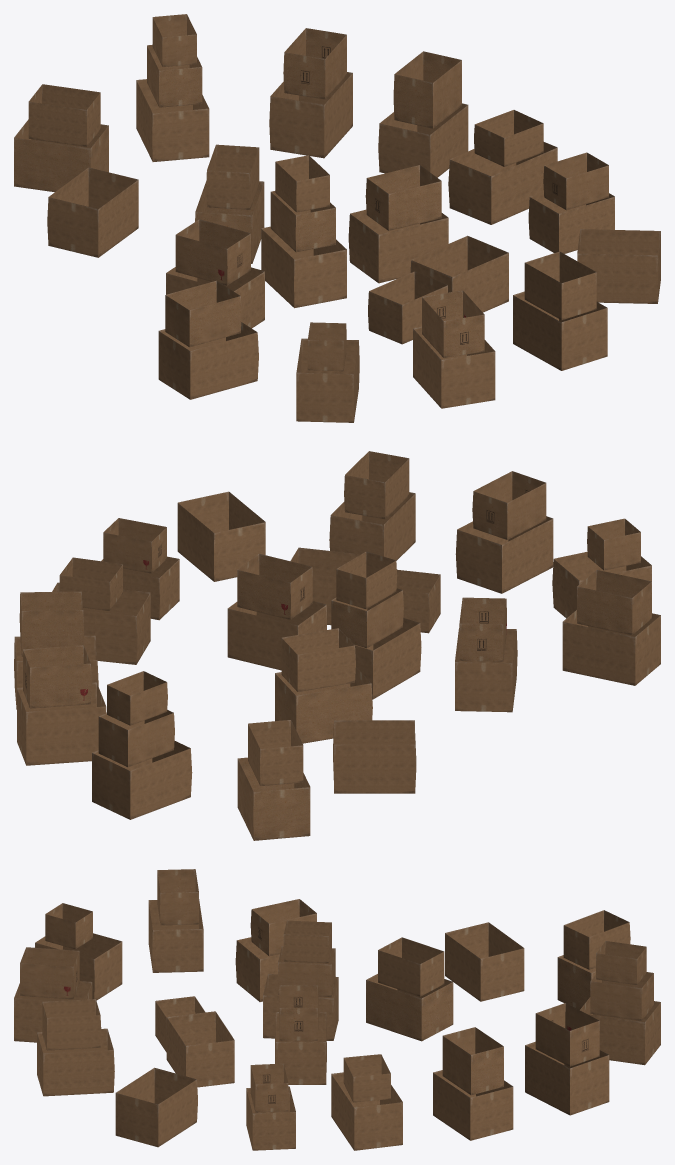
Rendered from map_walls_alleslos.fbx.
3 views of the same model, one above another, from view 1: azimuth 30°, elevation 25°; view 2: azimuth 150°, elevation 25°; view 3: azimuth 270°, elevation 25° (orthographic). The views are drawn at different scales.
Parts seen in each view (by area): view 1: wall1_30, wall4_5, wall3_17, wall3_12, wall1_14, wall1_32, wall4_24, wall4, wall4_8, wall4_26, wall3_19, wall2_3 (+68 smaller); view 2: wall4_19, wall1_12, wall3_30, wall2_20, wall4_14, wall2_24, wall4_17, wall6_3, wall2, wall1_13, wall1_26, wall4_11 (+57 smaller); view 3: wall3_3, wall3_20, wall4_30, wall4_12, wall3_8, wall3_22, wall3_24, wall2_14, wall2_19, wall2_5, wall4_10, wall2_12 (+62 smaller).
Boxes of the visible parts, <box> form: wall1_30: <box>190,332,258,399</box>; wall4_5: <box>577,253,657,303</box>; wall3_17: <box>14,137,90,192</box>; wall3_12: <box>269,96,324,158</box>; wall1_14: <box>152,108,209,161</box>; wall1_32: <box>296,372,353,422</box>; wall4_24: <box>378,217,448,283</box>; wall4: <box>441,351,495,408</box>; wall4_8: <box>491,147,557,224</box>; wall4_26: <box>294,249,346,308</box>; wall3_19: <box>47,197,98,257</box>; wall2_3: <box>513,295,561,370</box>; wall4_19: <box>334,744,416,793</box>; wall1_12: <box>26,706,106,765</box>; wall3_30: <box>562,622,635,685</box>; wall2_20: <box>296,683,372,743</box>; wall4_14: <box>130,748,192,819</box>; wall2_24: <box>227,608,297,670</box>; wall4_17: <box>253,787,310,840</box>; wall6_3: <box>455,662,512,712</box>; wall2: <box>502,518,553,593</box>; wall1_13: <box>30,663,91,708</box>; wall1_26: <box>373,623,421,699</box>; wall4_11: <box>21,610,83,656</box>; wall3_3: <box>43,1050,114,1096</box>; wall3_20: <box>366,980,421,1041</box>; wall4_30: <box>152,928,203,972</box>; wall4_12: <box>525,1045,569,1115</box>; wall3_8: <box>354,1102,402,1150</box>; wall3_22: <box>186,1040,234,1087</box>; wall3_24: <box>275,1042,326,1084</box>; wall2_14: <box>588,1014,644,1065</box>; wall2_19: <box>480,948,524,1001</box>; wall2_5: <box>115,1093,158,1147</box>; wall4_10: <box>470,1087,513,1140</box>; wall2_12: <box>570,1055,609,1115</box>.
Size of the model in its own units: 2609 by 592 by 3409.
137 materials, 137 textured.
